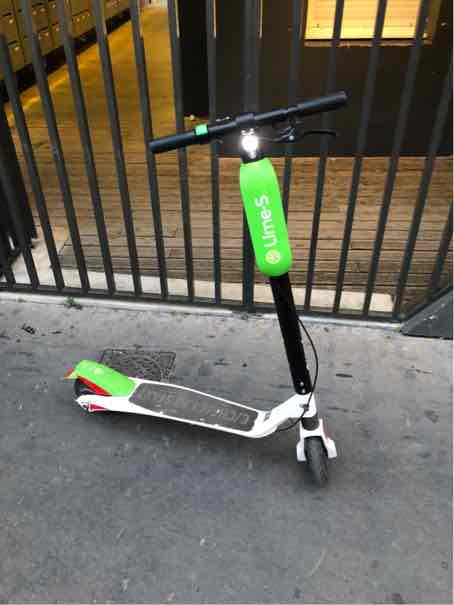scooter: (62, 89, 354, 497)
